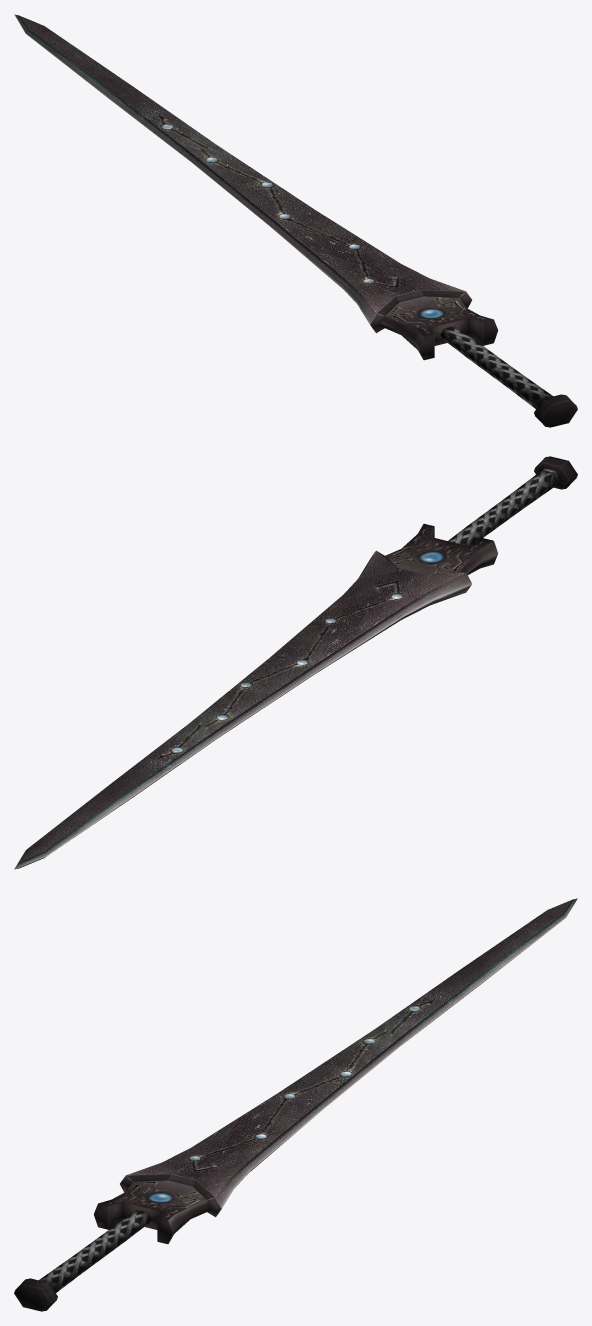
File: sword_sword_3_sword_3.glb
3 views of the same model, one above another, from view 1: azimuth 30°, elevation 25°; view 2: azimuth 150°, elevation 25°; view 3: azimuth 330°, elevation 25° (orthographic).
Size of the model in its own units: 0.2279 by 0.0562 by 2.11.
1 material, 1 textured.
